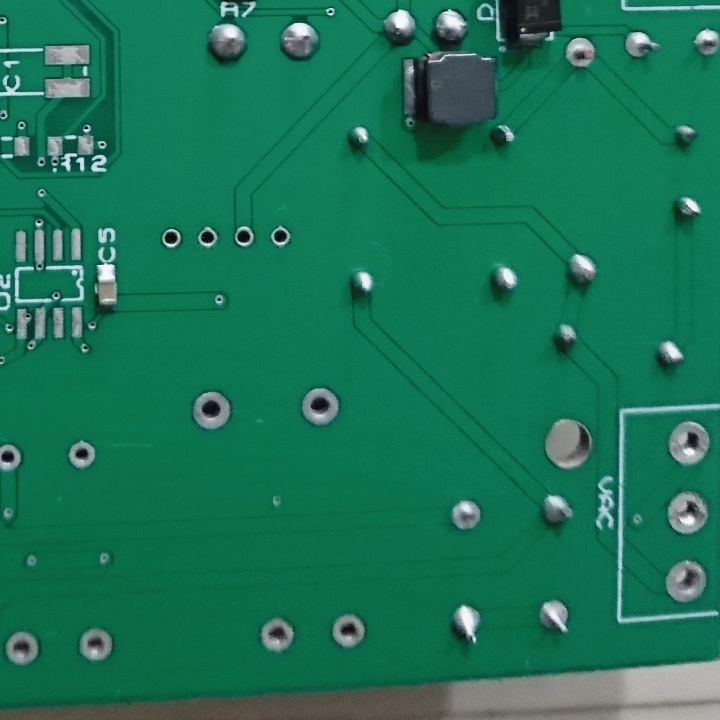F: (667, 417, 713, 469), (665, 490, 714, 538), (189, 386, 236, 434), (665, 558, 710, 605), (297, 383, 342, 428), (2, 628, 45, 672), (534, 598, 579, 638), (258, 616, 297, 658), (624, 26, 663, 64), (562, 37, 601, 75), (330, 613, 368, 652), (449, 496, 484, 538), (78, 627, 117, 663), (67, 437, 99, 476), (1, 441, 27, 478), (693, 25, 720, 59), (231, 223, 257, 251), (195, 224, 220, 252), (159, 226, 185, 251), (266, 226, 293, 249)
